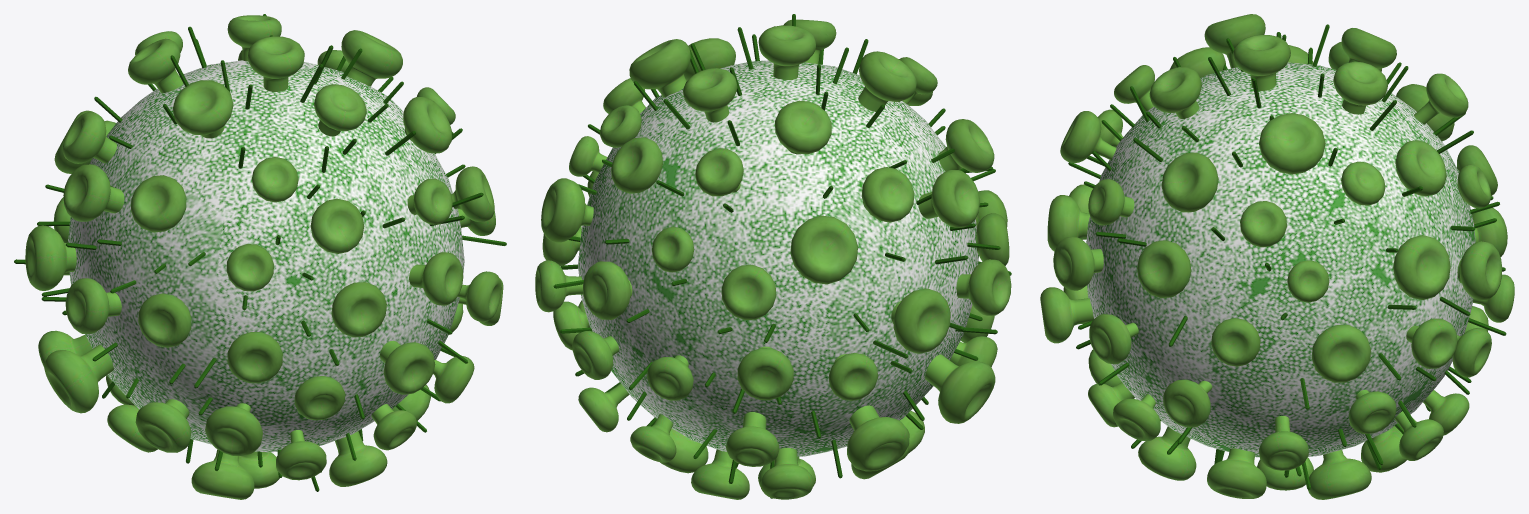
The model's file is HIV.fbx.
3 views of the same model, side by side, from view 1: azimuth 30°, elevation 25°; view 2: azimuth 150°, elevation 25°; view 3: azimuth 270°, elevation 25° (orthographic).
Parts seen in each view (by area): view 1: HIV2:polySurface37; view 2: HIV2:polySurface37; view 3: HIV2:polySurface37.
Boxes of the visible parts, bbox=[...] form: HIV2:polySurface37: bbox=[14, 14, 506, 499]; HIV2:polySurface37: bbox=[535, 14, 1011, 499]; HIV2:polySurface37: bbox=[1040, 14, 1514, 499].
Size of the model in its own units: 6.63 by 6.75 by 6.52.
